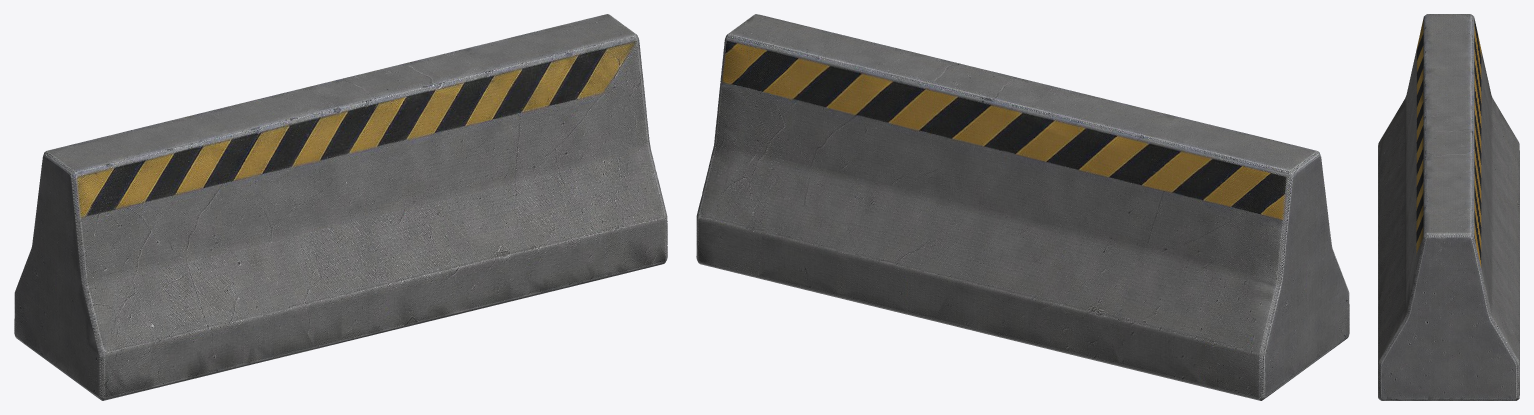
File: industrial_barrier.glb
The picture shows the model from 3 angles, left to right: view 1: azimuth 30°, elevation 25°; view 2: azimuth 150°, elevation 25°; view 3: azimuth 270°, elevation 25°; orthographic projection. The views are drawn at different scales.
Bounding box in the file's own units: 2 × 0.7039 × 0.5396.
Materials: 1 (1 with a texture image).
